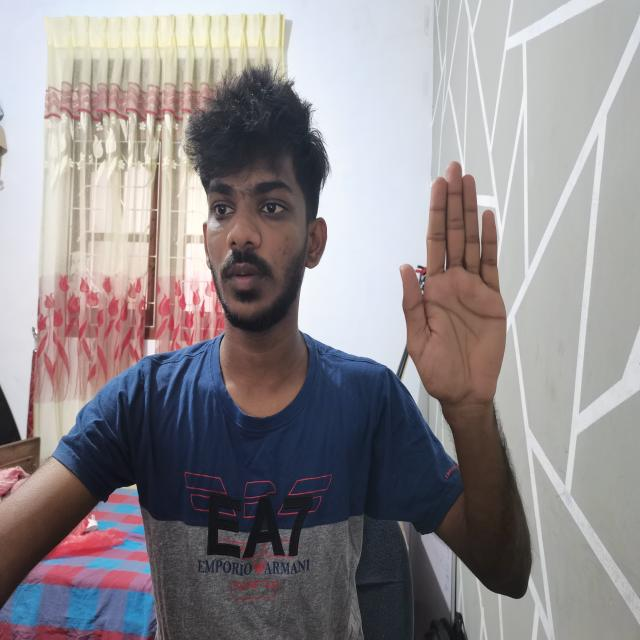Hello: (390, 152, 512, 422)
